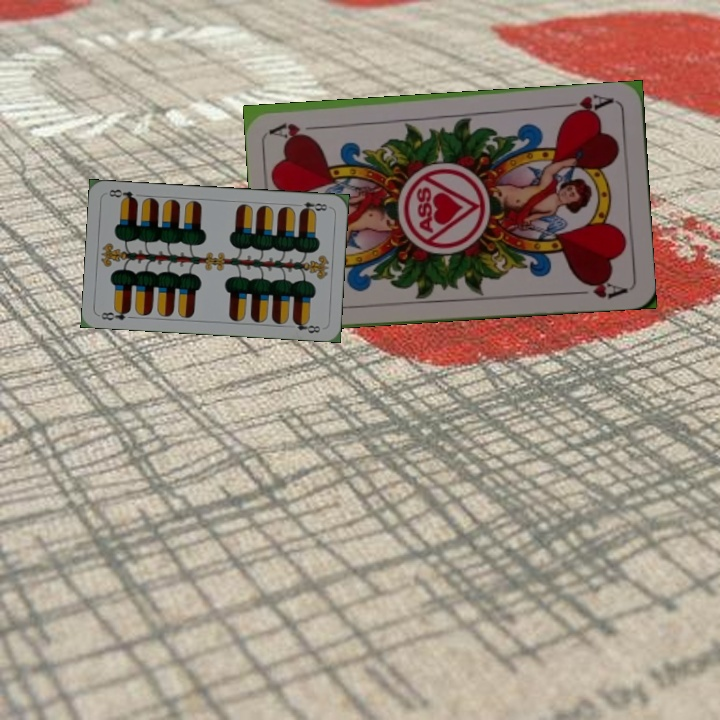E8: (97, 305, 133, 323), (296, 198, 332, 215)
HA: (558, 90, 616, 119)
